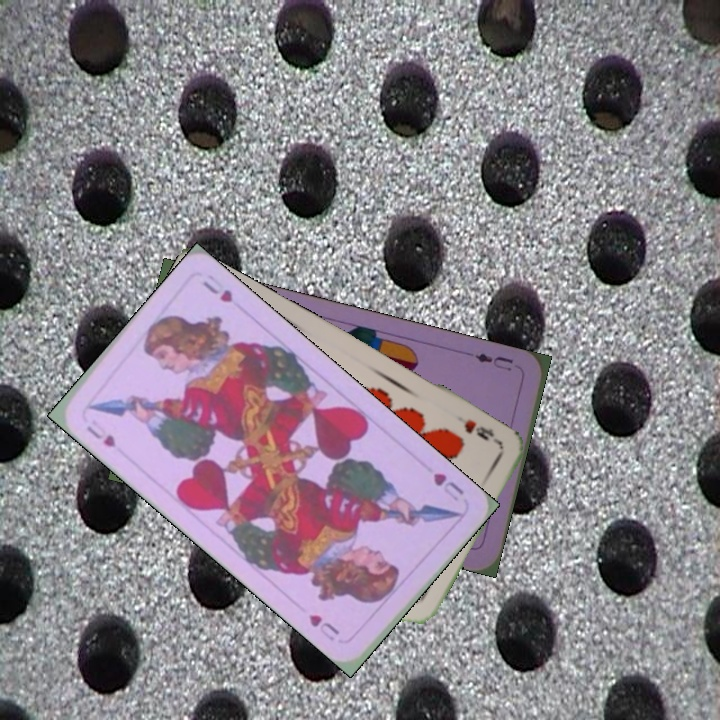EU: (471, 349, 515, 374)
H9: (453, 412, 502, 447)
HU: (429, 468, 467, 504), (82, 422, 119, 451)
